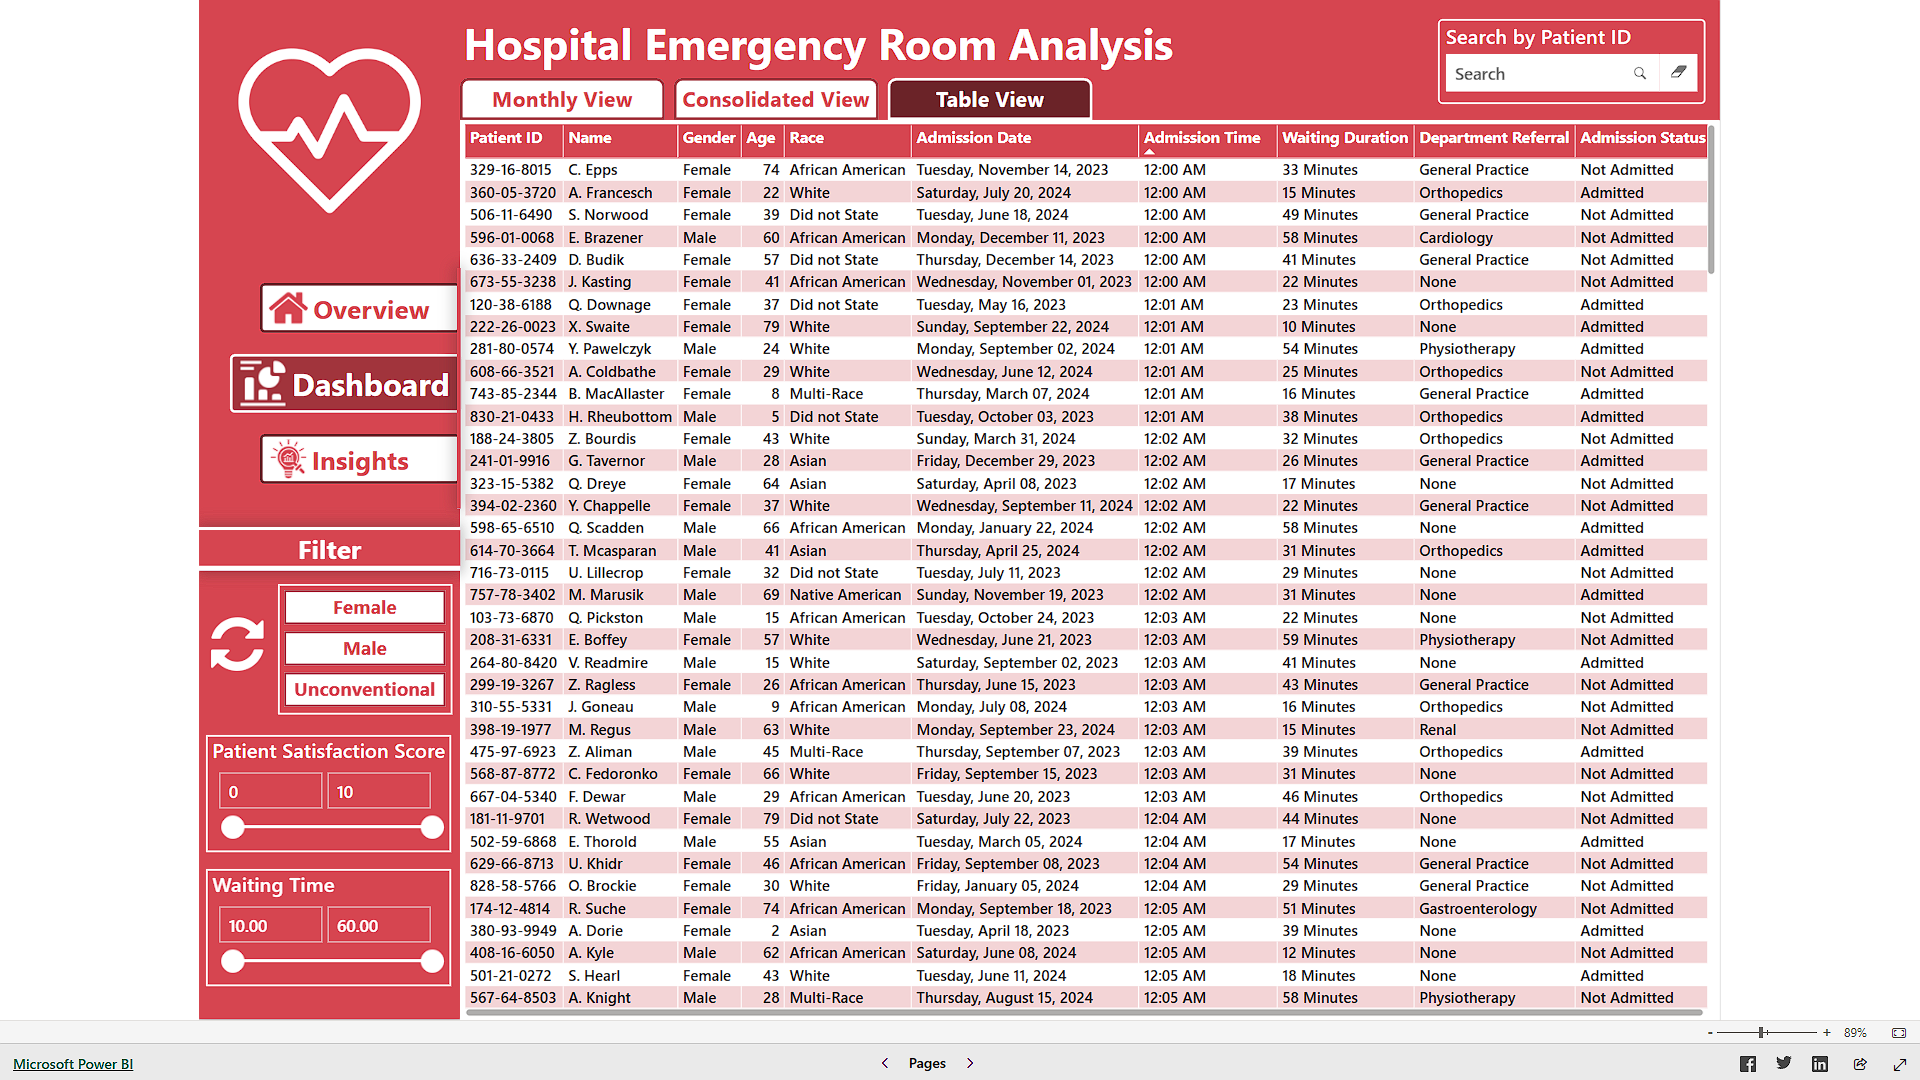

Layout of this report page (visuals, bound fields, positions):
{"tool":"powerbi","page":{"name":"Table View","canvas":[1700,1140],"ordinal":6},"visuals":[{"type":"shape","box":[0,0,292.2,1139.5],"z":0},{"type":"textbox","title":"Hospital Emergency Room Analysis","box":[290.8,14.7,938.4,91],"z":0,"group":"g1"},{"type":"actionButton","box":[34.3,396.3,258.6,65.7],"z":0,"group":"g2"},{"type":"textbox","title":"Filter","box":[0,592.7,292,40.3],"z":0,"group":"g4"},{"type":"shape","box":[292,0,1408,135],"z":1000},{"type":"actionButton","box":[68.2,485.2,224,55.7],"z":1000,"group":"g2"},{"type":"image","box":[0,38.6,291.4,214.3],"z":2000},{"type":"actionButton","box":[68.2,316.7,224,55.7],"z":2000,"group":"g2"},{"type":"pageNavigator","box":[292.2,87,709,47],"z":3000},{"type":"shape","box":[288,300,4.2,268.5],"z":3000,"group":"g2"},{"type":"tableEx","fields":{"Values":["Hospital ER.Patient Id","Hospital ER.Patient Name","Hospital ER.Patient Gender","Hospital ER.Patient Age","Hospital ER.Patient Race","Hospital ER.Patient Admission Date","Hospital ER.Patient Admission Time","Hospital ER.Waiting Time","Hospital ER.Department Referral","Hospital ER.Admission Status"]},"box":[292.2,133.6,1408,1007.3],"z":4000},{"type":"group","id":"g1","title":"Group 1","box":[290.8,14.7,938.4,91],"z":5000},{"type":"group","id":"g2","title":"Group 2","box":[34.3,300,258.6,268.5],"z":6000},{"type":"group","id":"g3","title":"Group 6","box":[0,588.9,292.2,513.4],"z":7000},{"type":"textFilter25A4896A83E0487089E2B90C9AE57C8A","title":"Search by Patient ID","fields":{"field":["Hospital ER.Patient Id"]},"box":[1384.3,20.9,299.1,94.6],"z":8000},{"type":"slicer","title":"Patient Satisfaction Score","fields":{"Values":["Hospital ER.Patient Satisfaction Score"]},"box":[8.1,821,274.5,131.2],"z":48000,"group":"g3"},{"type":"slicer","title":"Waiting Time","fields":{"Values":["Hospital ER.Patient Waittime"]},"box":[8.1,971.1,274.5,131.2],"z":49000,"group":"g3"},{"type":"advancedSlicerVisual","title":"Patient Satisfaction Score","fields":{"Values":["Hospital ER.Patient Gender"]},"box":[87.9,653,194.7,146],"z":50000,"group":"g3"},{"type":"image","box":[8.3,683.1,69.6,73.7],"z":51000,"group":"g3"},{"type":"shape","box":[0,588.9,292.2,48.7],"z":52001,"group":"g3"},{"type":"group","id":"g4","title":"Group 1","box":[0,592.7,292,40.3],"z":52501,"group":"g3"}]}

Visuals, with their boxes on the page's 1700x1140 design canvas (x1, y1, x2, y2). These are canvas units, not pixel positions in the 1920x1080 screenshot, which may show the page scaled, cropped or inside an application window:
shape: <bbox>0, 0, 292, 1140</bbox>
"Hospital Emergency Room Analysis" textbox: <bbox>291, 15, 1229, 106</bbox>
actionButton: <bbox>34, 396, 293, 462</bbox>
"Filter" textbox: <bbox>0, 593, 292, 633</bbox>
shape: <bbox>292, 0, 1700, 135</bbox>
actionButton: <bbox>68, 485, 292, 541</bbox>
image: <bbox>0, 39, 291, 253</bbox>
actionButton: <bbox>68, 317, 292, 372</bbox>
pageNavigator: <bbox>292, 87, 1001, 134</bbox>
shape: <bbox>288, 300, 292, 568</bbox>
tableEx - Hospital ER.Patient Id x Hospital ER.Patient Name: <bbox>292, 134, 1700, 1141</bbox>
"Group 1" group: <bbox>291, 15, 1229, 106</bbox>
"Group 2" group: <bbox>34, 300, 293, 568</bbox>
"Group 6" group: <bbox>0, 589, 292, 1102</bbox>
"Search by Patient ID" textFilter25A4896A83E0487089E2B90C9AE57C8A: <bbox>1384, 21, 1683, 116</bbox>
"Patient Satisfaction Score" slicer: <bbox>8, 821, 283, 952</bbox>
"Waiting Time" slicer: <bbox>8, 971, 283, 1102</bbox>
"Patient Satisfaction Score" advancedSlicerVisual: <bbox>88, 653, 283, 799</bbox>
image: <bbox>8, 683, 78, 757</bbox>
shape: <bbox>0, 589, 292, 638</bbox>
"Group 1" group: <bbox>0, 593, 292, 633</bbox>
